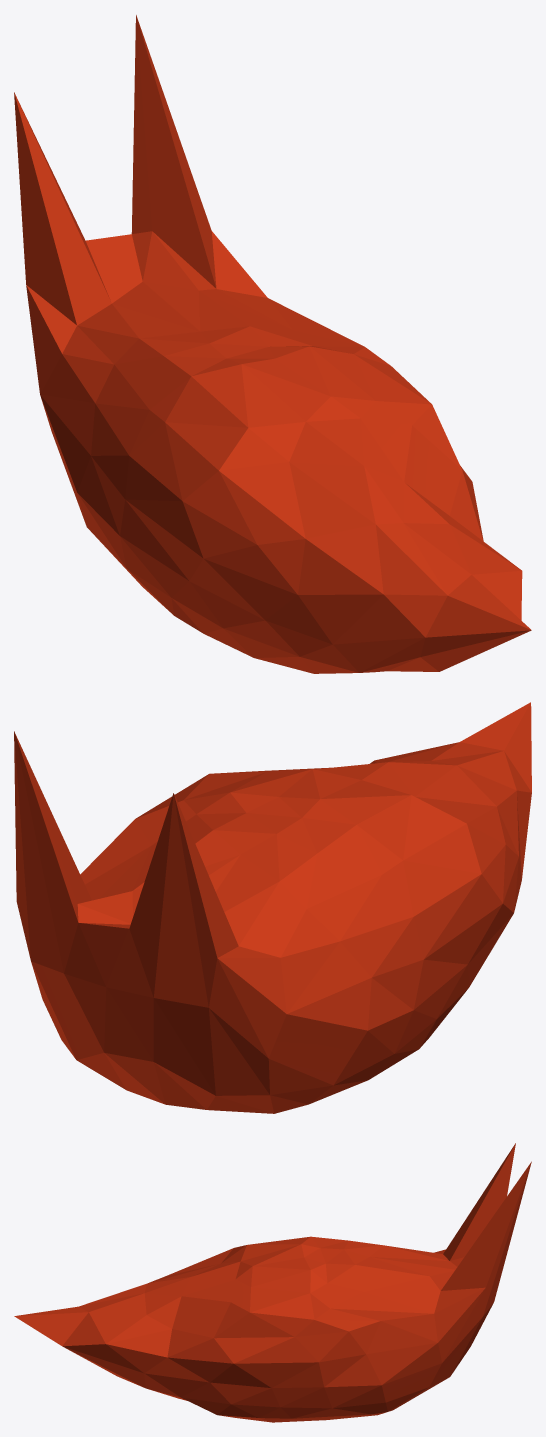
The model's file is body.fbx.
The picture shows the model from 3 angles, top to bottom: view 1: azimuth 30°, elevation 25°; view 2: azimuth 150°, elevation 25°; view 3: azimuth 270°, elevation 25°; orthographic projection. The views are drawn at different scales.
Visible parts, largest first — view 1: Snail; view 2: Snail; view 3: Snail.
Part boxes in pixels (<box>): Snail: <box>14,15,531,673</box>; Snail: <box>14,702,531,1113</box>; Snail: <box>14,1143,531,1422</box>.
Bounding box in the file's own units: 152 × 228 × 407.
